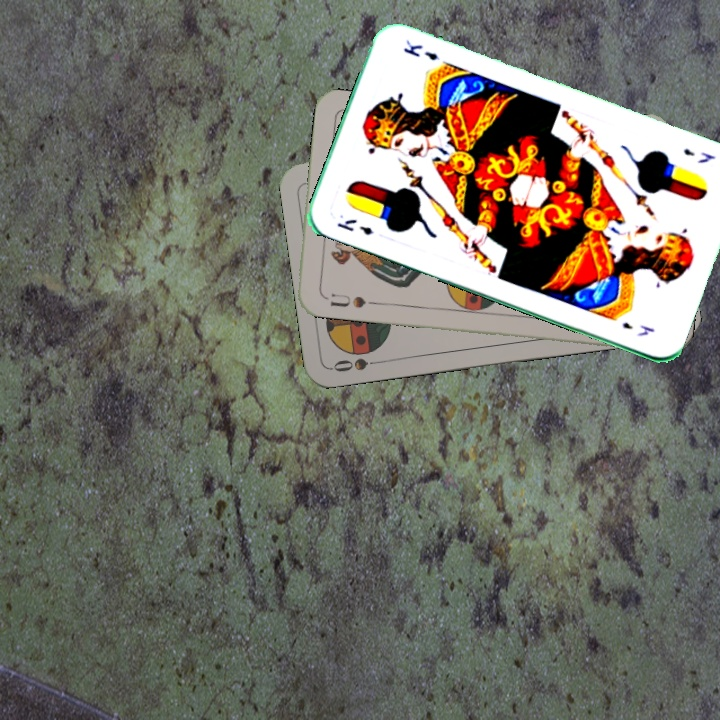EK: (333, 215, 375, 238), (679, 144, 718, 166)
SO: (329, 354, 388, 375)
SU: (326, 289, 368, 311)
